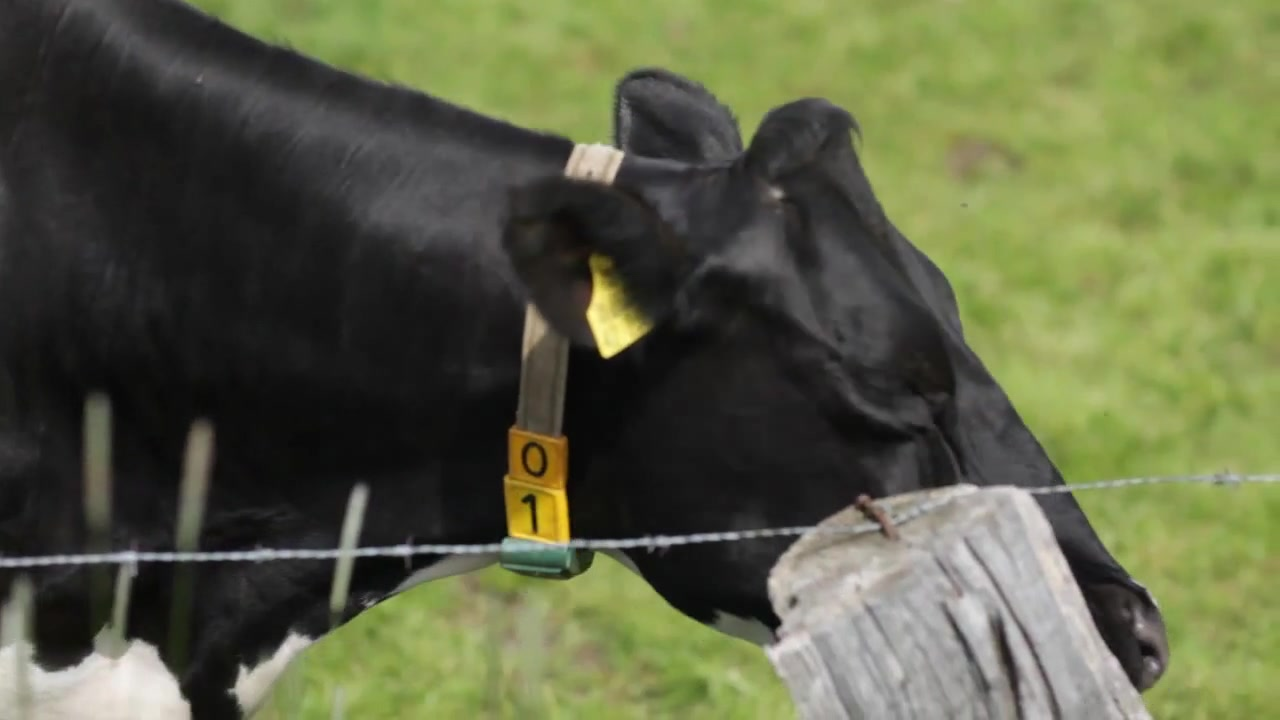cow: (1, 1, 1173, 720)
